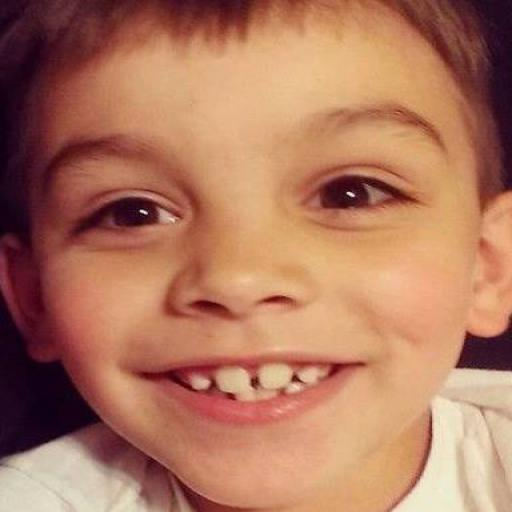Autism: (6, 4, 506, 480)
